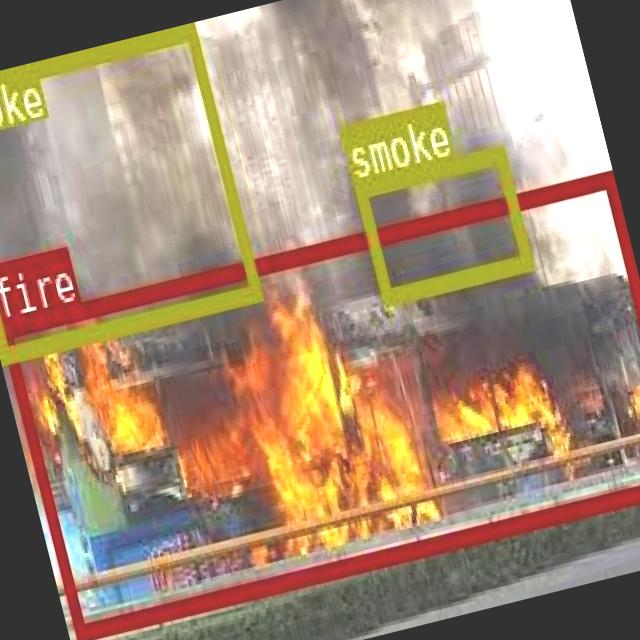fire: (0, 167, 640, 637)
smoke: (0, 22, 260, 359), (352, 144, 530, 302)
